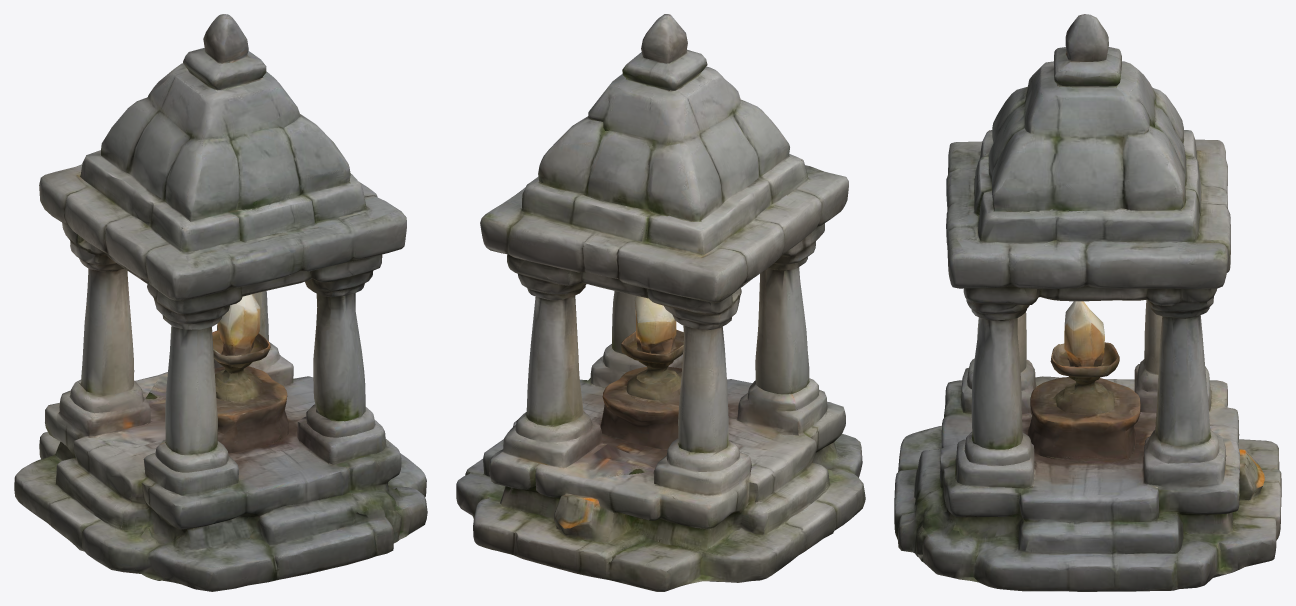
File: shrine.glb
3 views of the same model, side by side, from view 1: azimuth 30°, elevation 25°; view 2: azimuth 150°, elevation 25°; view 3: azimuth 270°, elevation 25° (orthographic). The views are drawn at different scales.
Parts seen in each view (by area): view 1: shrine; view 2: shrine; view 3: shrine.
Part boxes in pixels (x1=…): shrine: x1=14, y1=14, x2=427, y2=591; shrine: x1=456, y1=14, x2=865, y2=591; shrine: x1=894, y1=14, x2=1281, y2=591.
Size of the model in its own units: 1.43 by 2.1 by 1.47.
1 material, 1 textured.
